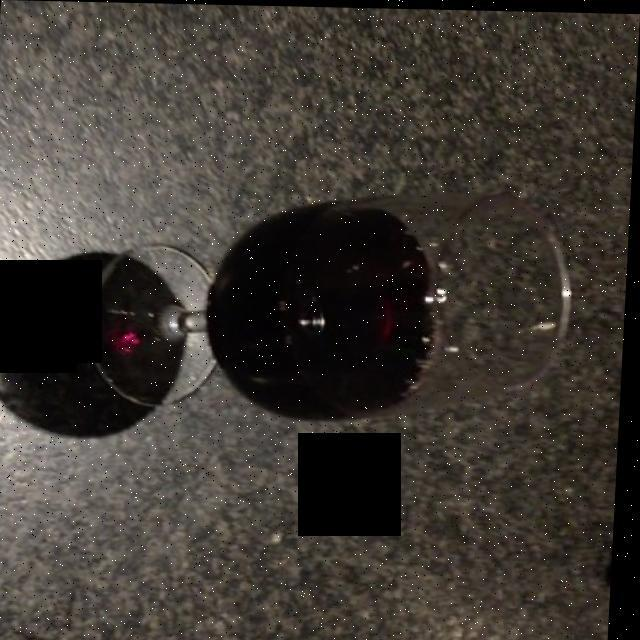wine: (219, 201, 429, 422)
